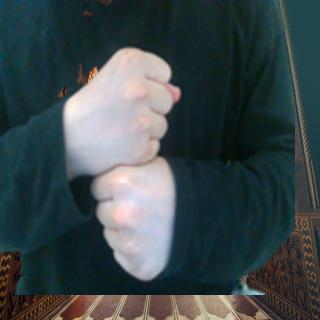CAREFUL: (59, 37, 183, 283)
